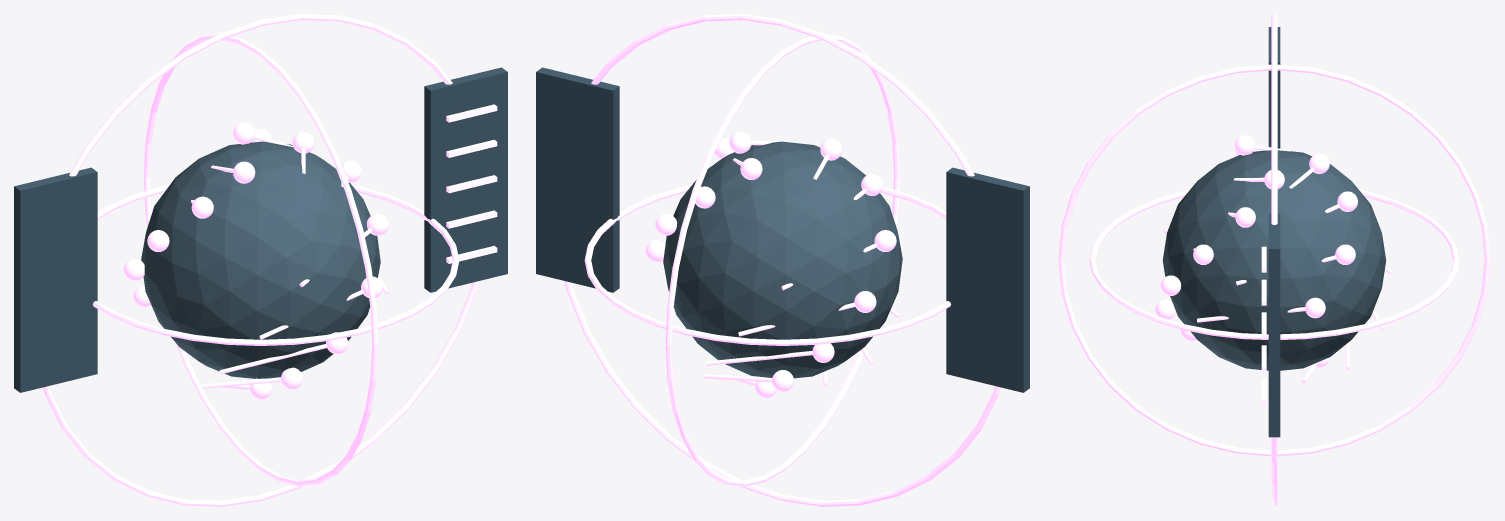
Rendered from plan_02.glb.
3 renders of one model, left to right at view 1: azimuth 30°, elevation 25°; view 2: azimuth 150°, elevation 25°; view 3: azimuth 270°, elevation 25°, orthographic. The views are drawn at different scales.
Parts seen in each view (by area): view 1: brain_shell, interface-0.85, interface0.85, neural_orbit2, neural_orbit1, neural_orbit0; view 2: brain_shell, interface-0.85, interface0.85, neural_orbit2, neural_orbit1, neural_orbit0; view 3: brain_shell, neural_orbit1, neural_orbit0, interface0.85, neural_orbit2, interface-0.85.
Boxes of the visible parts, x1=… form: brain_shell: x1=141, y1=141, x2=380, y2=378; interface-0.85: x1=14, y1=167, x2=97, y2=392; interface0.85: x1=424, y1=67, x2=507, y2=292; neural_orbit2: x1=43, y1=14, x2=479, y2=506; neural_orbit1: x1=143, y1=34, x2=378, y2=486; neural_orbit0: x1=93, y1=184, x2=459, y2=345; brain_shell: x1=663, y1=141, x2=902, y2=378; interface-0.85: x1=946, y1=167, x2=1029, y2=392; interface0.85: x1=536, y1=67, x2=619, y2=292; neural_orbit2: x1=564, y1=14, x2=1000, y2=506; neural_orbit1: x1=665, y1=34, x2=900, y2=486; neural_orbit0: x1=584, y1=184, x2=950, y2=345; brain_shell: x1=1162, y1=150, x2=1386, y2=370; neural_orbit1: x1=1058, y1=64, x2=1490, y2=456; neural_orbit0: x1=1089, y1=189, x2=1459, y2=339; interface0.85: x1=1268, y1=213, x2=1280, y2=437; neural_orbit2: x1=1271, y1=14, x2=1277, y2=506; interface-0.85: x1=1268, y1=27, x2=1280, y2=148.
Size of the model in its own units: 1.82 by 1.72 by 1.5.
